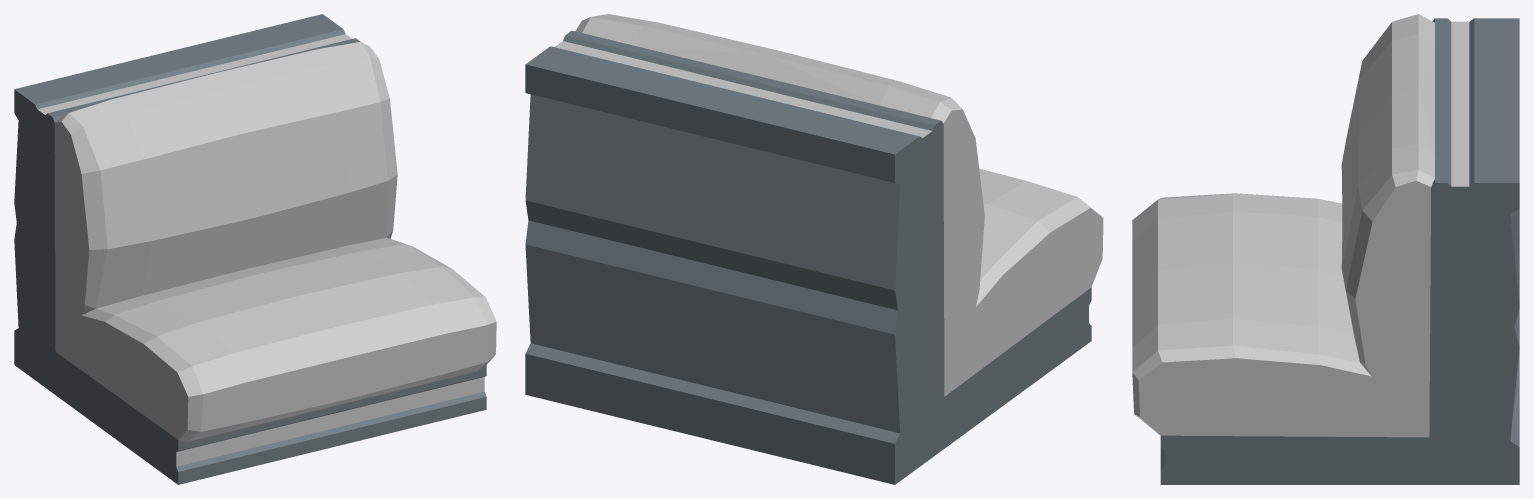
File: SM_Prop_Sofa_02_Straight_02.fbx
The picture shows the model from 3 angles, left to right: view 1: azimuth 30°, elevation 25°; view 2: azimuth 150°, elevation 25°; view 3: azimuth 270°, elevation 25°; orthographic projection. The views are drawn at different scales.
Parts seen in each view (by area): view 1: SM_Prop_Sofa_02_Straight_02; view 2: SM_Prop_Sofa_02_Straight_02; view 3: SM_Prop_Sofa_02_Straight_02.
Part boxes in pixels (x1,y1,x2,y2): SM_Prop_Sofa_02_Straight_02: (14, 14, 496, 484); SM_Prop_Sofa_02_Straight_02: (525, 14, 1103, 484); SM_Prop_Sofa_02_Straight_02: (1132, 14, 1519, 484).
Size of the model in its own units: 125 by 111 by 124.
